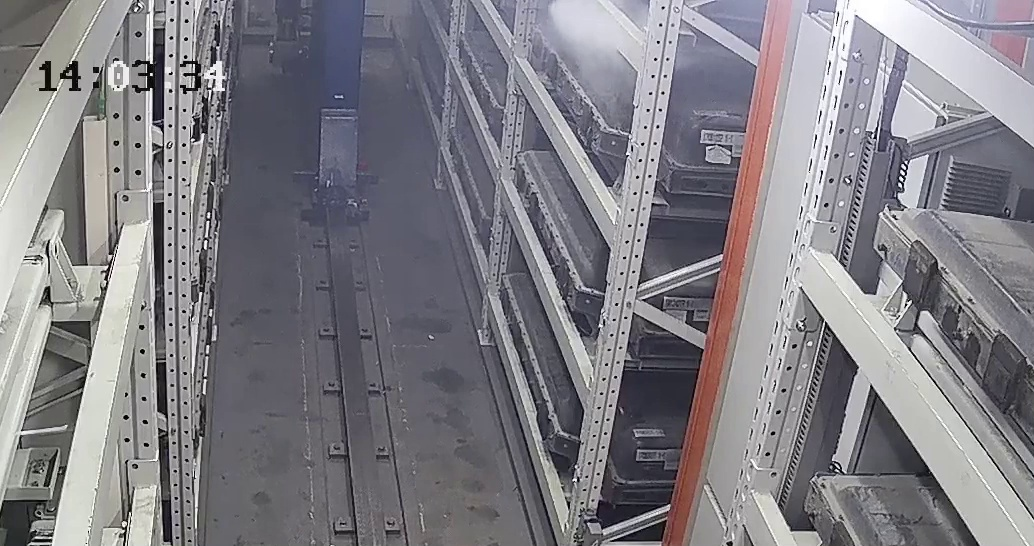smoke: (544, 3, 621, 89)
